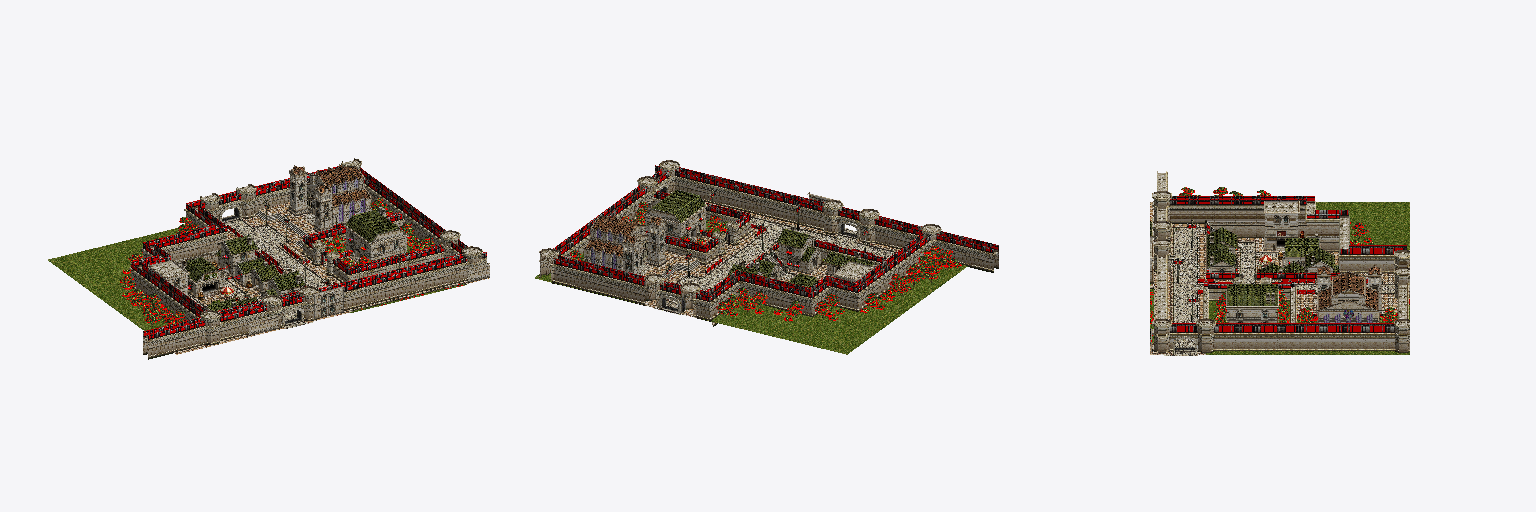
3 views of the same model, side by side, from view 1: azimuth 30°, elevation 25°; view 2: azimuth 150°, elevation 25°; view 3: azimuth 270°, elevation 25° (orthographic).
Visible parts, largest first — view 1: Object.004; view 2: Object.004; view 3: Object.004.
Boxes of the visible parts, box(x1,y1,x2,y2) form: Object.004: box(48, 158, 489, 359); Object.004: box(535, 160, 998, 354); Object.004: box(1150, 171, 1409, 355).
Bounding box in the file's own units: 93.35 × 17 × 61.87.
30 materials, 30 textured.